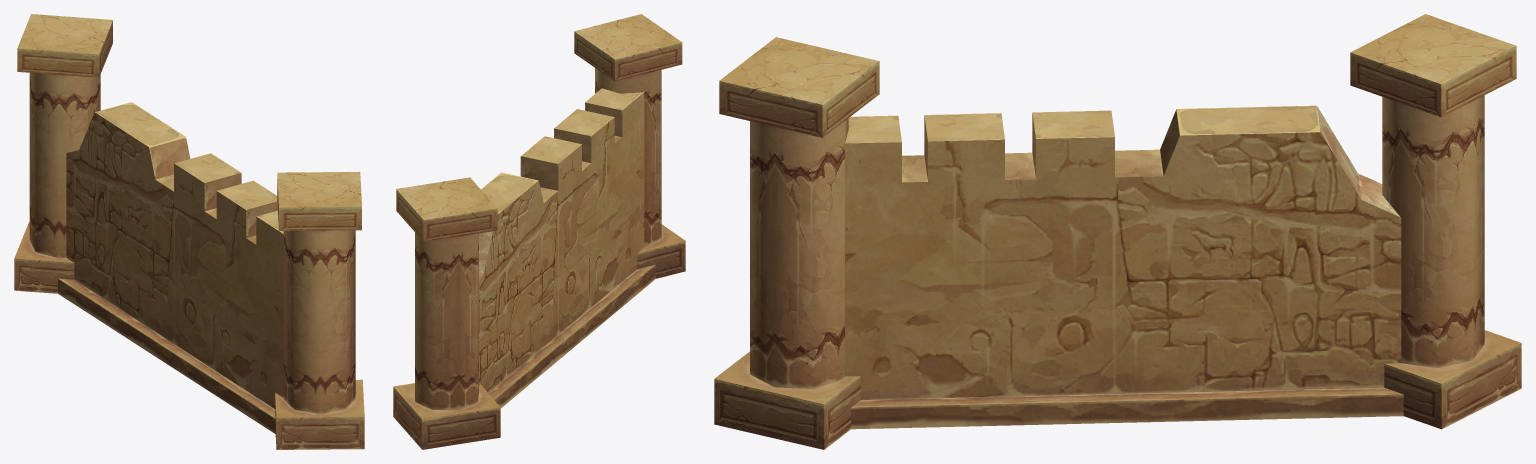
File: Area_09_27.fbx
3 renders of one model, left to right at view 1: azimuth 30°, elevation 25°; view 2: azimuth 150°, elevation 25°; view 3: azimuth 270°, elevation 25°, orthographic. The views are drawn at different scales.
Parts seen in each view (by area): view 1: Area_09_27; view 2: Area_09_27; view 3: Area_09_27.
Boxes of the visible parts, box(x1,y1,x2,y2) form: Area_09_27: box(14, 14, 364, 449); Area_09_27: box(393, 14, 685, 449); Area_09_27: box(714, 14, 1521, 449).
Size of the model in its own units: 244 by 409 by 874.
